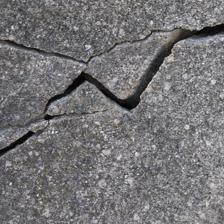Crack: (9, 0, 60, 146), (0, 52, 83, 131), (151, 0, 198, 88)
